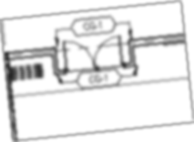double door: (61, 34, 127, 73)
